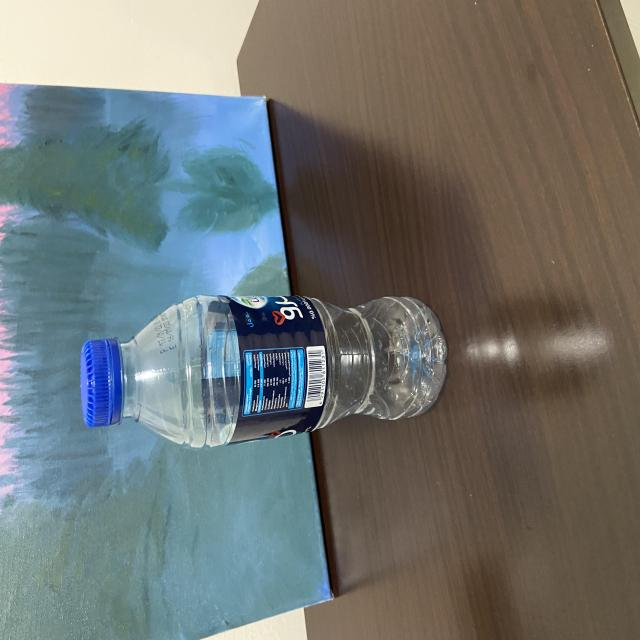bottle: (68, 282, 458, 455)
